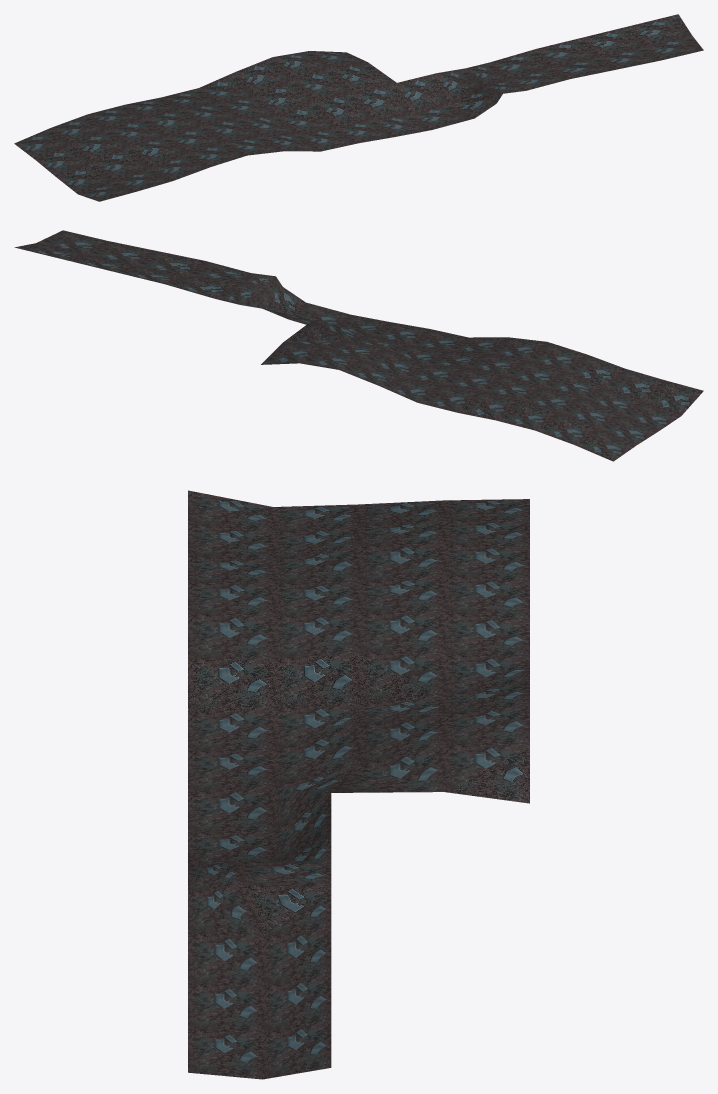
The model's file is track_military_env_terrain_02.fbx.
3 renders of one model, top to bottom at view 1: azimuth 30°, elevation 25°; view 2: azimuth 150°, elevation 25°; view 3: azimuth 270°, elevation 25°, orthographic. The views are drawn at different scales.
Parts seen in each view (by area): view 1: track_military_env_terrain_02; view 2: track_military_env_terrain_02; view 3: track_military_env_terrain_02.
Boxes of the visible parts, left/top/right/bottom form: track_military_env_terrain_02: left=14, top=14, right=703, bottom=201; track_military_env_terrain_02: left=14, top=230, right=703, bottom=461; track_military_env_terrain_02: left=188, top=490, right=529, bottom=1079.
Bounding box in the file's own units: 950 × 42.03 × 229.
